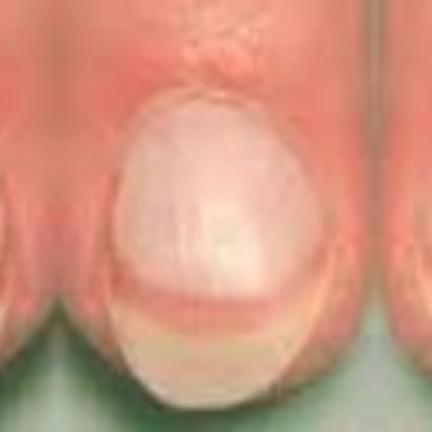Nail: (97, 94, 337, 415), (411, 192, 432, 322), (0, 197, 17, 342)
